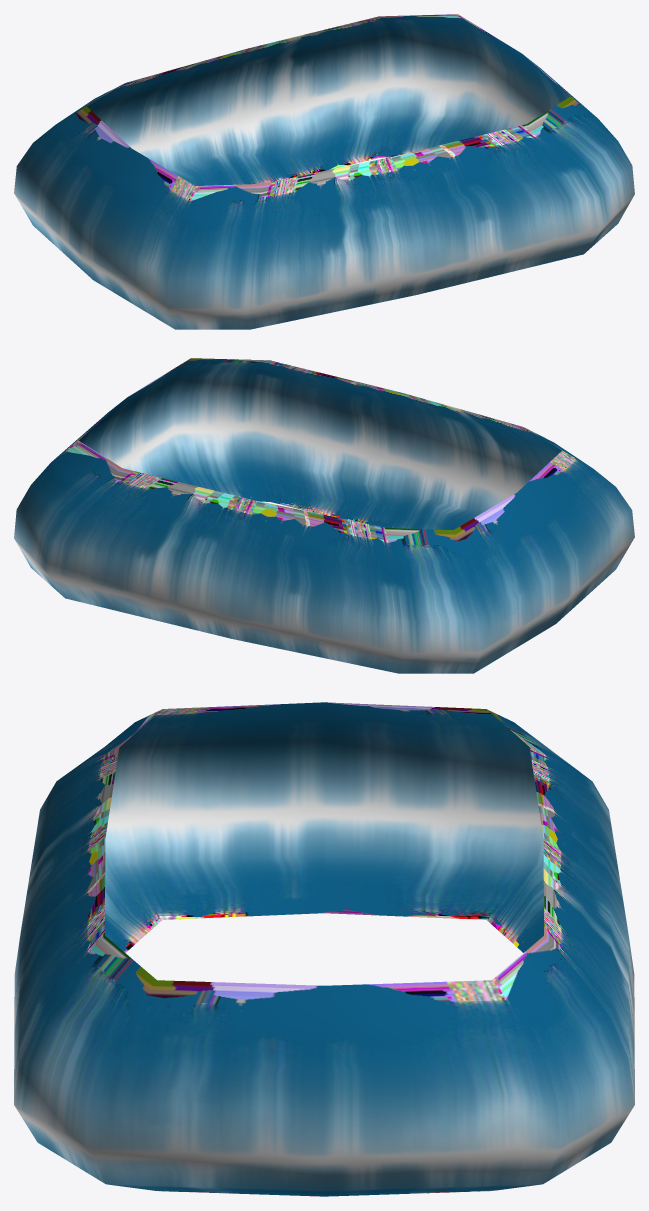
Rendered from heavy_unit_regenerating.obj.
3 views of the same model, one above another, from view 1: azimuth 30°, elevation 25°; view 2: azimuth 150°, elevation 25°; view 3: azimuth 270°, elevation 25° (orthographic). The views are drawn at different scales.
Parts seen in each view (by area): view 1: pSphere6; view 2: pSphere6; view 3: pSphere6.
Boxes of the visible parts, <box> form: pSphere6: <box>14,14,634,329</box>; pSphere6: <box>14,358,634,673</box>; pSphere6: <box>14,702,634,1196</box>.
Bounding box in the file's own units: 52.22 × 14.56 × 38.86.
Materials: 1 (1 with a texture image).
